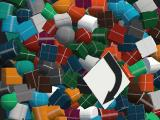Right: (82, 51, 130, 109)
